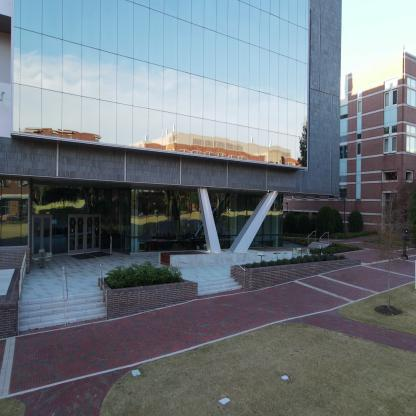EB-1: (346, 28, 414, 282)
Fitts- Woolard: (0, 2, 344, 328)
